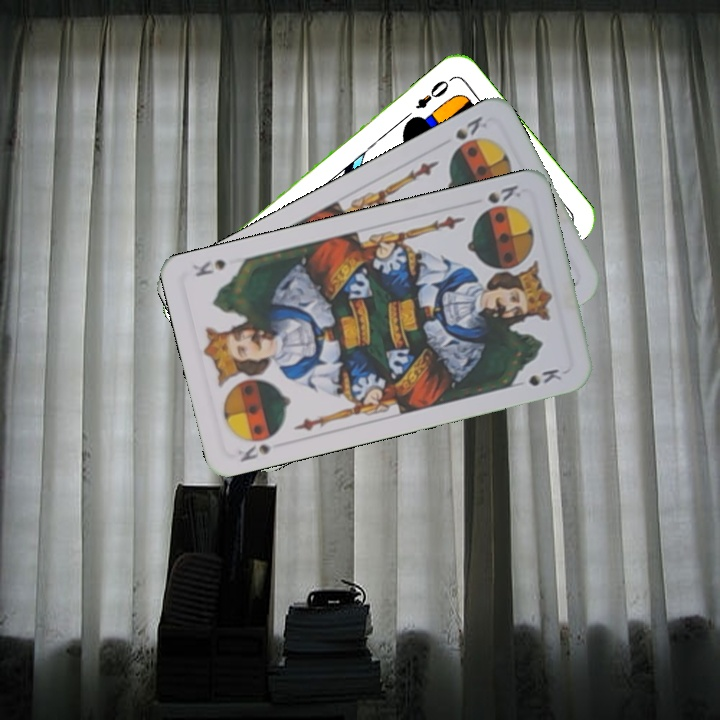EO: (411, 74, 455, 112)
SK: (451, 112, 490, 143), (234, 440, 276, 465), (483, 181, 524, 206)
